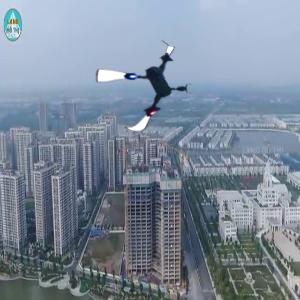drone: (96, 40, 195, 139)
